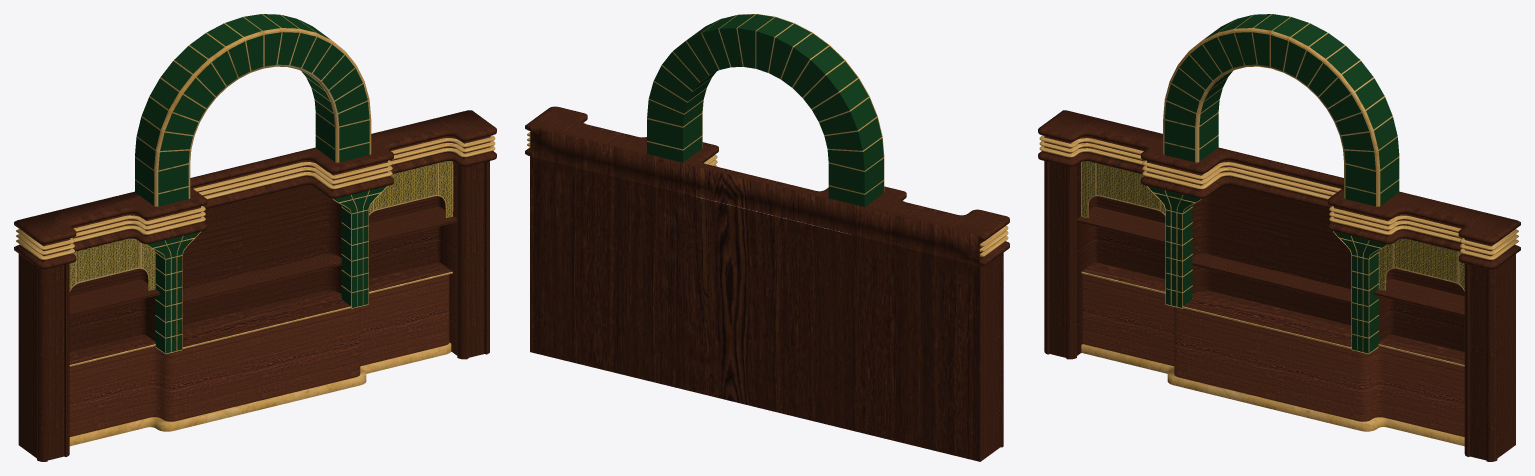
The model's file is deco-back-bar.gltf.
The picture shows the model from 3 angles, left to right: view 1: azimuth 30°, elevation 25°; view 2: azimuth 150°, elevation 25°; view 3: azimuth 330°, elevation 25°; orthographic projection.
Parts seen in each view (by area): view 1: Bar_0; view 2: Bar_0; view 3: Bar_0.
Boxes of the visible parts, box(x1,y1,x2,y2) form: Bar_0: box(14, 14, 496, 461); Bar_0: box(525, 14, 1009, 461); Bar_0: box(1038, 14, 1520, 461).
Size of the model in its own units: 4.61 by 3.6 by 0.4804.
4 materials, 3 textured.
